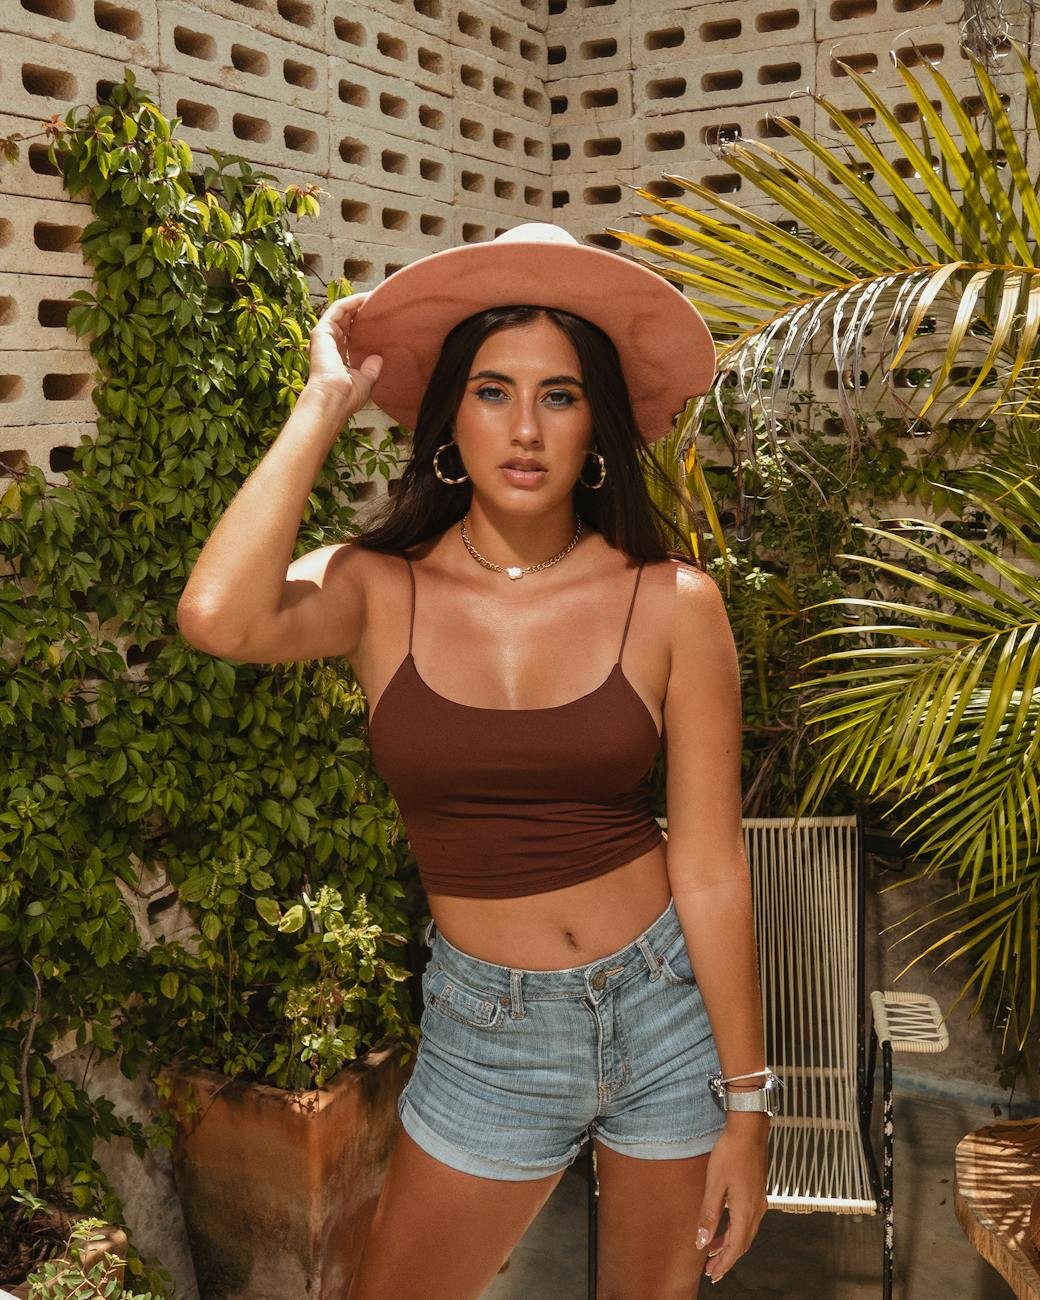crop_top: (343, 525, 688, 900)
shorts: (381, 921, 768, 1178)
